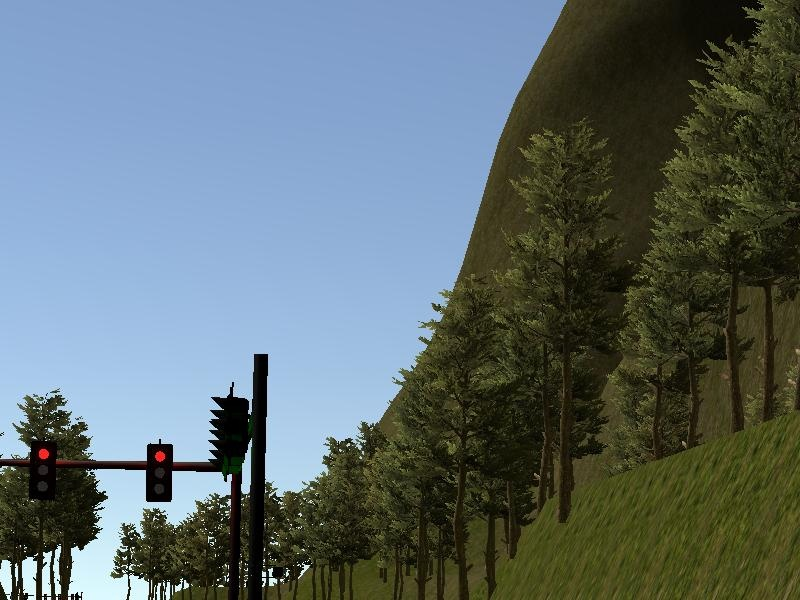Red: (146, 443, 173, 502), (30, 441, 55, 501)
